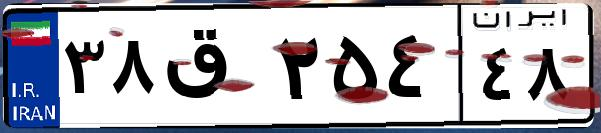2: (270, 28, 330, 110)
3: (57, 26, 110, 100)
4: (385, 28, 445, 110), (475, 38, 525, 113)
5: (330, 28, 385, 110)
8: (525, 38, 570, 115), (110, 28, 158, 98)
ق: (158, 20, 270, 120)
